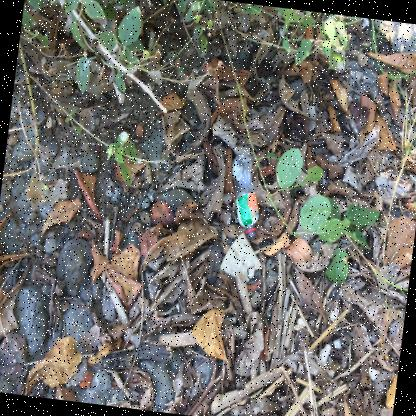Clear plastic bottle: (231, 154, 259, 239)
Styrofoam piece: (219, 232, 262, 282), (368, 367, 379, 380), (333, 338, 342, 348), (359, 323, 366, 331)
